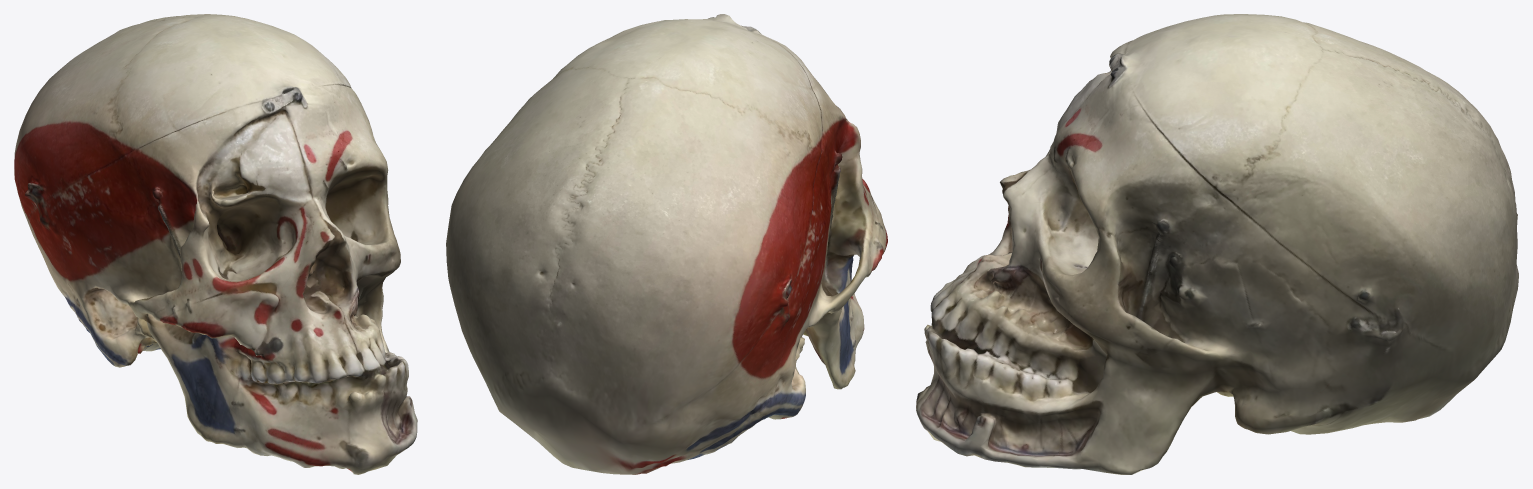
The model's file is Model-mobile.glb.
3 renders of one model, left to right at view 1: azimuth 30°, elevation 25°; view 2: azimuth 150°, elevation 25°; view 3: azimuth 270°, elevation 25°, orthographic. The views are drawn at different scales.
Parts seen in each view (by area): view 1: model; view 2: model; view 3: model.
Boxes of the visible parts, <box> form: model: <box>14,14,417,474</box>; model: <box>446,14,887,474</box>; model: <box>916,14,1518,474</box>.
Size of the model in its own units: 0.8497 by 0.9621 by 1.33.
1 material, 1 textured.
